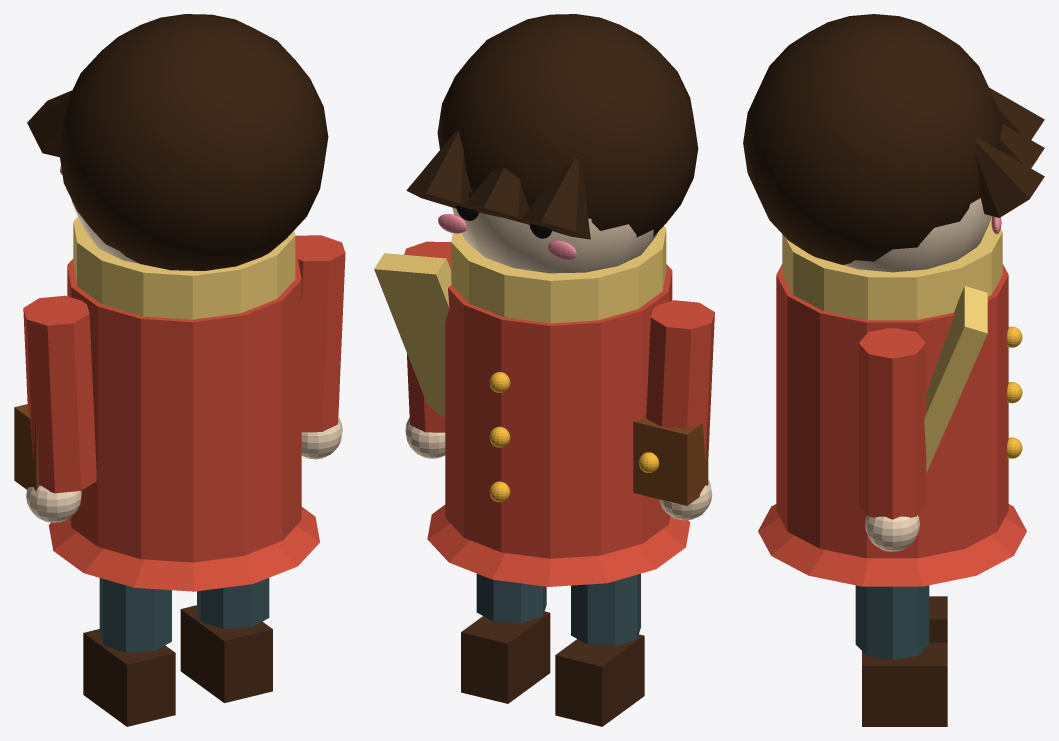
Rendered from player.glb.
3 renders of one model, left to right at view 1: azimuth 30°, elevation 25°; view 2: azimuth 150°, elevation 25°; view 3: azimuth 270°, elevation 25°, orthographic. The views are drawn at different scales.
Visible parts, largest first — view 1: HairCrown, PlayerCoat, Arm_-0.46, ScarfCollar, CoatHem, Arm_0.46, Boot_-0.18, Boot_0.18, Leg_-0.18, Leg_0.18, SatchelBag, HairBang_-0.22 (+2 smaller); view 2: PlayerCoat, HairCrown, ScarfCollar, CoatHem, Arm_-0.46, ScarfTail, PlayerHead, Boot_-0.18, Boot_0.18, SatchelBag, Leg_-0.18, HairBang_-0.22 (+6 smaller); view 3: HairCrown, PlayerCoat, Arm_0.46, ScarfCollar, CoatHem, Boot_0.18, ScarfTail, Leg_0.18, PlayerHead, HairBang_0.22, Hand_0.46, HairBang_-0.22 (+2 smaller).
Part boxes in pixels (left/top/right/bottom): HairCrown: left=59, top=14, right=328, bottom=270; PlayerCoat: left=67, top=256, right=301, bottom=562; Arm_-0.46: left=23, top=295, right=96, bottom=493; ScarfCollar: left=73, top=217, right=295, bottom=319; CoatHem: left=48, top=507, right=319, bottom=591; Arm_0.46: left=295, top=235, right=345, bottom=432; Boot_-0.18: left=83, top=629, right=175, bottom=726; Boot_0.18: left=180, top=605, right=272, bottom=702; Leg_-0.18: left=99, top=578, right=171, bottom=652; Leg_0.18: left=197, top=578, right=269, bottom=628; SatchelBag: left=14, top=404, right=39, bottom=491; HairBang_-0.22: left=27, top=90, right=72, bottom=157; PlayerCoat: left=445, top=262, right=672, bottom=558; HairCrown: left=437, top=14, right=698, bottom=237; ScarfCollar: left=451, top=226, right=666, bottom=323; CoatHem: left=427, top=505, right=690, bottom=586; Arm_-0.46: left=646, top=300, right=714, bottom=460; ScarfTail: left=374, top=253, right=451, bottom=416; PlayerHead: left=452, top=207, right=657, bottom=273; Boot_-0.18: left=555, top=634, right=644, bottom=726; Boot_0.18: left=461, top=611, right=550, bottom=703; SatchelBag: left=633, top=417, right=708, bottom=505; Leg_-0.18: left=571, top=573, right=640, bottom=646; HairBang_-0.22: left=521, top=158, right=590, bottom=239; HairCrown: left=743, top=14, right=1002, bottom=264; PlayerCoat: left=776, top=264, right=1008, bottom=558; Arm_0.46: left=859, top=328, right=926, bottom=519; ScarfCollar: left=782, top=216, right=1002, bottom=320; CoatHem: left=758, top=504, right=1026, bottom=586; Boot_0.18: left=862, top=642, right=947, bottom=726; ScarfTail: left=924, top=286, right=987, bottom=472; Leg_0.18: left=855, top=585, right=929, bottom=659; PlayerHead: left=844, top=198, right=991, bottom=272; HairBang_0.22: left=975, top=137, right=1044, bottom=217; Hand_0.46: left=865, top=515, right=919, bottom=551; HairBang_-0.22: left=989, top=87, right=1044, bottom=139.
Size of the model in its own units: 1.17 by 2.4 by 0.9865.
